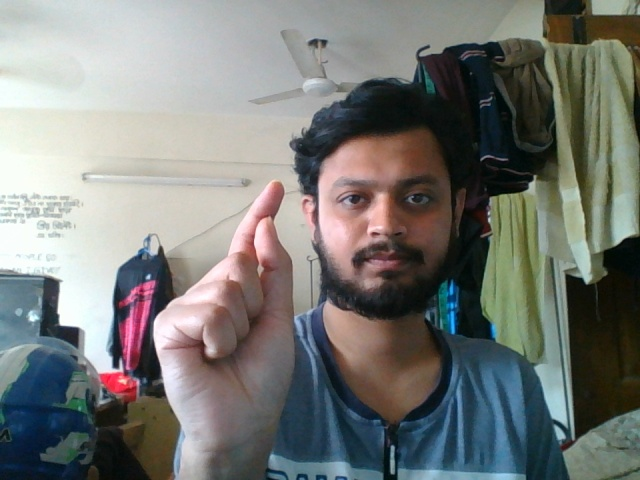tha: (150, 174, 303, 466)
